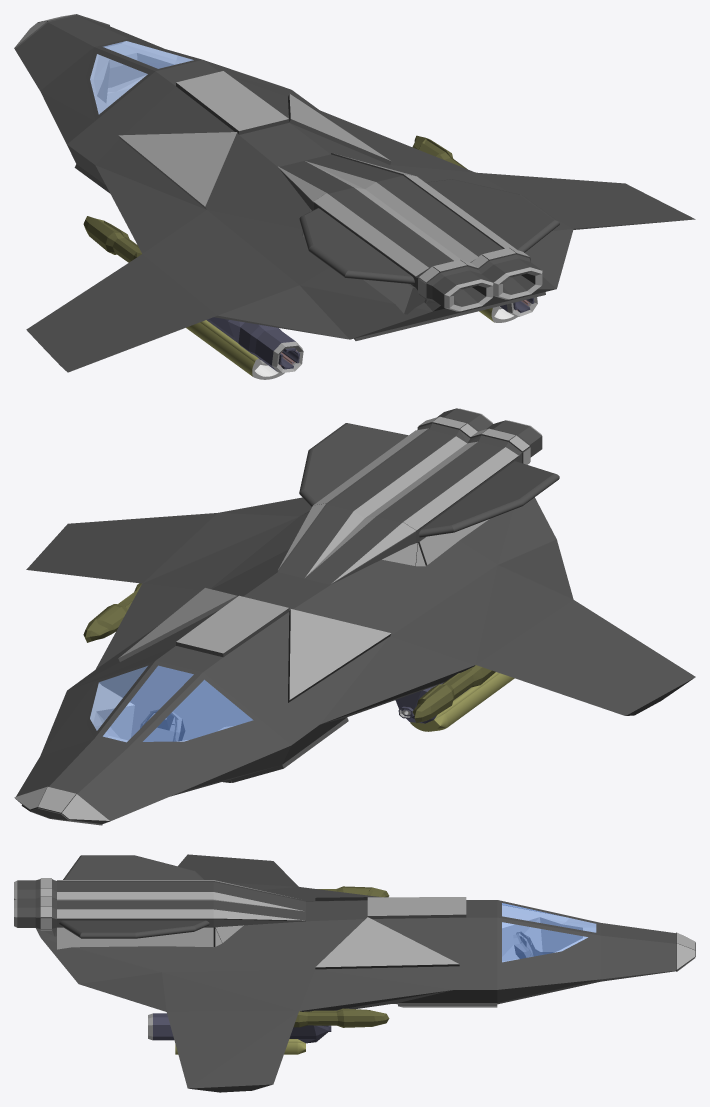
File: ship2.fbx
3 views of the same model, one above another, from view 1: azimuth 30°, elevation 25°; view 2: azimuth 150°, elevation 25°; view 3: azimuth 270°, elevation 25° (orthographic). The views are drawn at different scales.
Visible parts, largest first — view 1: UDF_R_107_X__Shadowknight_1, Port_Wing_and_Gun1, Port_Wing_and_Gun2, Right_Tailwing1, Murasaki_Slip_Drive1, Group1, Right_Tailwing2, G_3D_Object1_1, Murasaki_Slip_Drive2, G_3D_Object1_2; view 2: UDF_R_107_X__Shadowknight_1, Port_Wing_and_Gun1, Port_Wing_and_Gun2, Group1, Right_Tailwing1, Right_Tailwing2, Murasaki_Slip_Drive1, G_3D_Object1_1, G_3D_Object1_2, seat3_1; view 3: UDF_R_107_X__Shadowknight_1, Port_Wing_and_Gun2, Group1, Port_Wing_and_Gun1, Right_Tailwing2, Right_Tailwing1, G_3D_Object1_2, Murasaki_Slip_Drive2, seat3_1, G_3D_Object1_1.
Part boxes in pixels (x1,y1,x2,y2): UDF_R_107_X__Shadowknight_1: (14,14,556,340); Port_Wing_and_Gun1: (26,165,349,372); Port_Wing_and_Gun2: (320,110,695,288); Right_Tailwing1: (425,179,559,252); Murasaki_Slip_Drive1: (186,317,303,379); Group1: (86,38,202,120); Right_Tailwing2: (299,208,414,284); G_3D_Object1_1: (83,216,141,262); Murasaki_Slip_Drive2: (479,297,537,322); G_3D_Object1_2: (412,135,475,172); UDF_R_107_X__Shadowknight_1: (14,408,556,825); Port_Wing_and_Gun1: (320,539,695,724); Port_Wing_and_Gun2: (26,497,311,669); Group1: (86,660,262,746); Right_Tailwing1: (299,423,408,506); Right_Tailwing2: (418,461,559,537); Murasaki_Slip_Drive1: (395,672,514,731); G_3D_Object1_1: (412,665,495,723); G_3D_Object1_2: (83,583,141,642); seat3_1: (140,709,185,741); UDF_R_107_X__Shadowknight_1: (14,878,695,1007); Port_Wing_and_Gun2: (79,969,452,1092); Group1: (497,900,600,965); Port_Wing_and_Gun1: (178,854,381,900); Right_Tailwing2: (63,855,204,879); Right_Tailwing1: (59,920,209,938); G_3D_Object1_2: (293,1008,389,1027); Murasaki_Slip_Drive2: (148,1013,331,1054); seat3_1: (513,931,554,958); G_3D_Object1_1: (317,886,389,897).
Size of the model in its own units: 3.25 by 0.7539 by 4.
